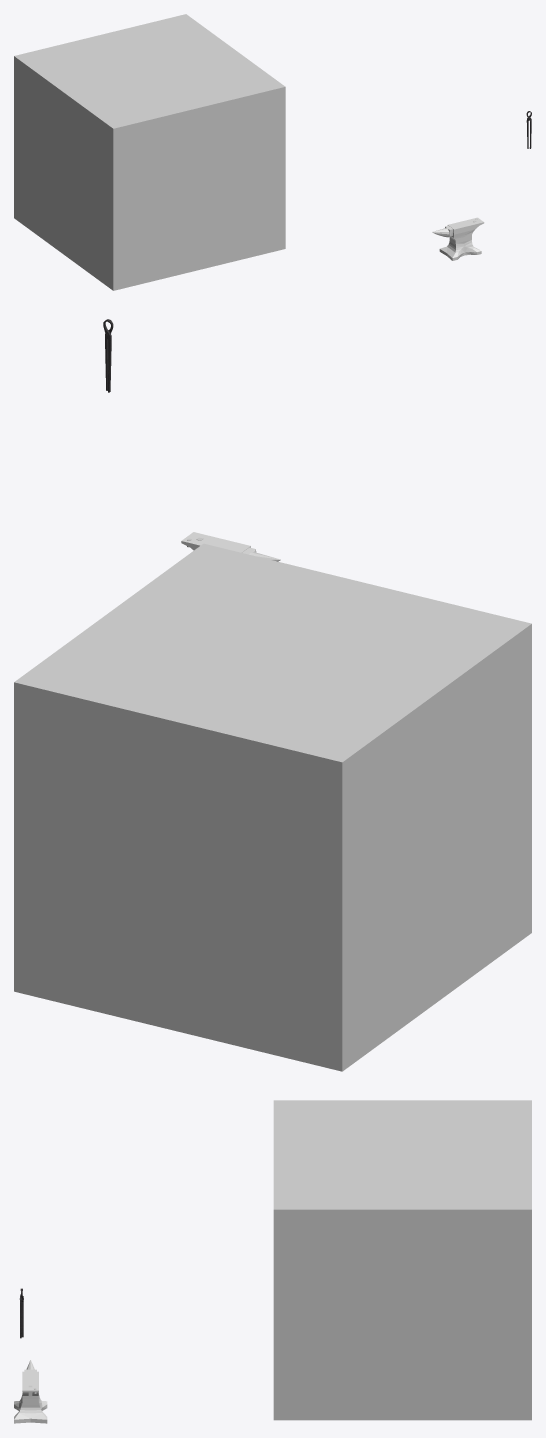
File: bolttong.dae
3 renders of one model, top to bottom at view 1: azimuth 30°, elevation 25°; view 2: azimuth 150°, elevation 25°; view 3: azimuth 270°, elevation 25°, orthographic. The views are drawn at different scales.
Visible parts, largest first — view 1: Cube_004, Cube_002; view 2: Cube_004, Cube_002; view 3: Cube_004, Cube_002.
Boxes of the visible parts, left/top/right/bottom form: Cube_004: left=14, top=14, right=285, bottom=290; Cube_002: left=432, top=217, right=484, bottom=260; Cube_004: left=14, top=543, right=531, bottom=1071; Cube_002: left=181, top=532, right=280, bottom=561; Cube_004: left=273, top=1100, right=531, bottom=1420; Cube_002: left=14, top=1360, right=47, bottom=1423.
Bounding box in the file's own units: 3.73 × 4.01 × 1.92.
1 material, 1 textured.
